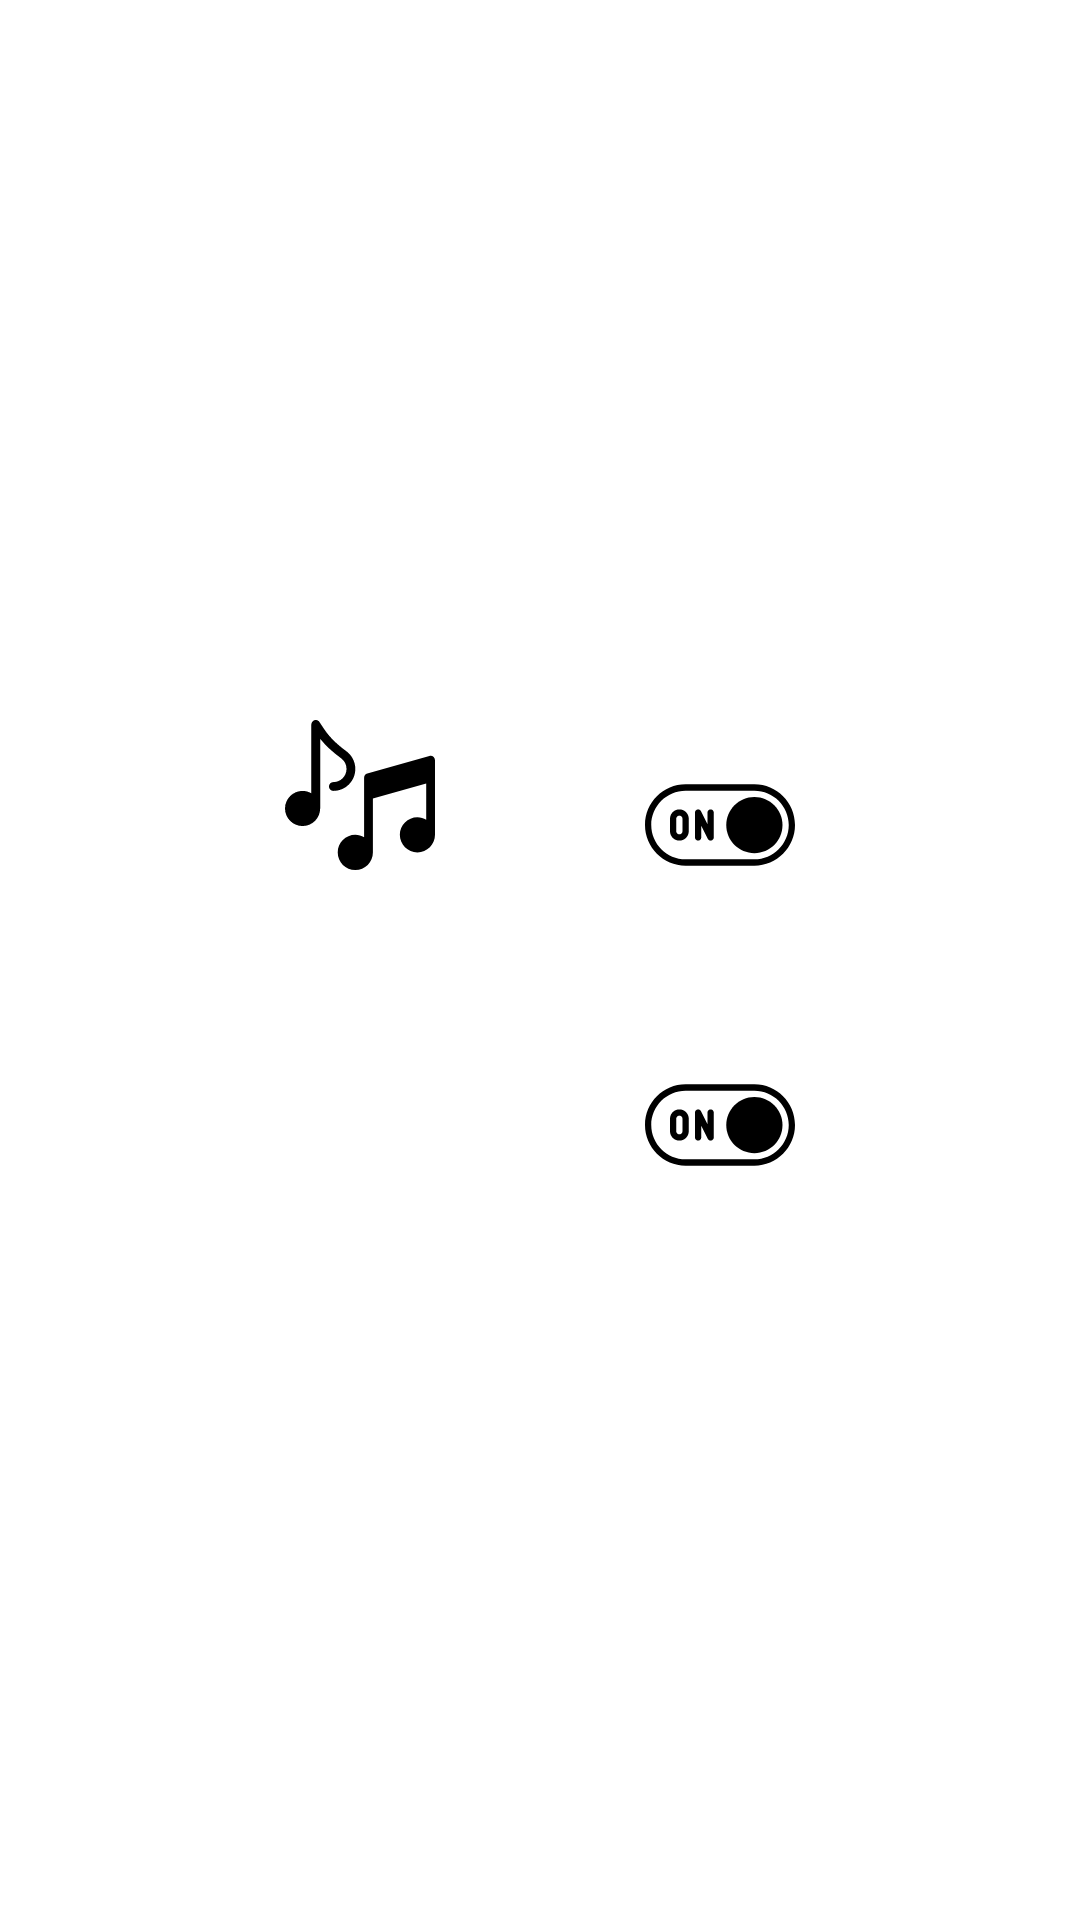

Where to tap for icons on this 1080 × 1920 app screen, as [x,y]:
music: [360,795]
